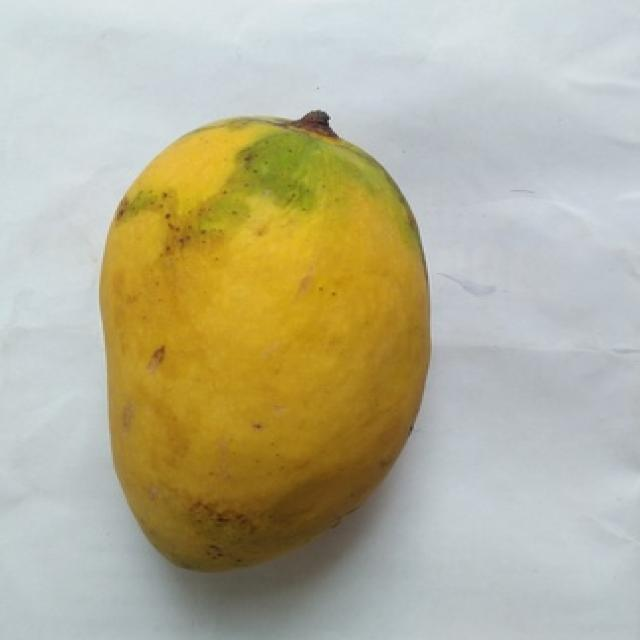Mango: (101, 115, 428, 568)
